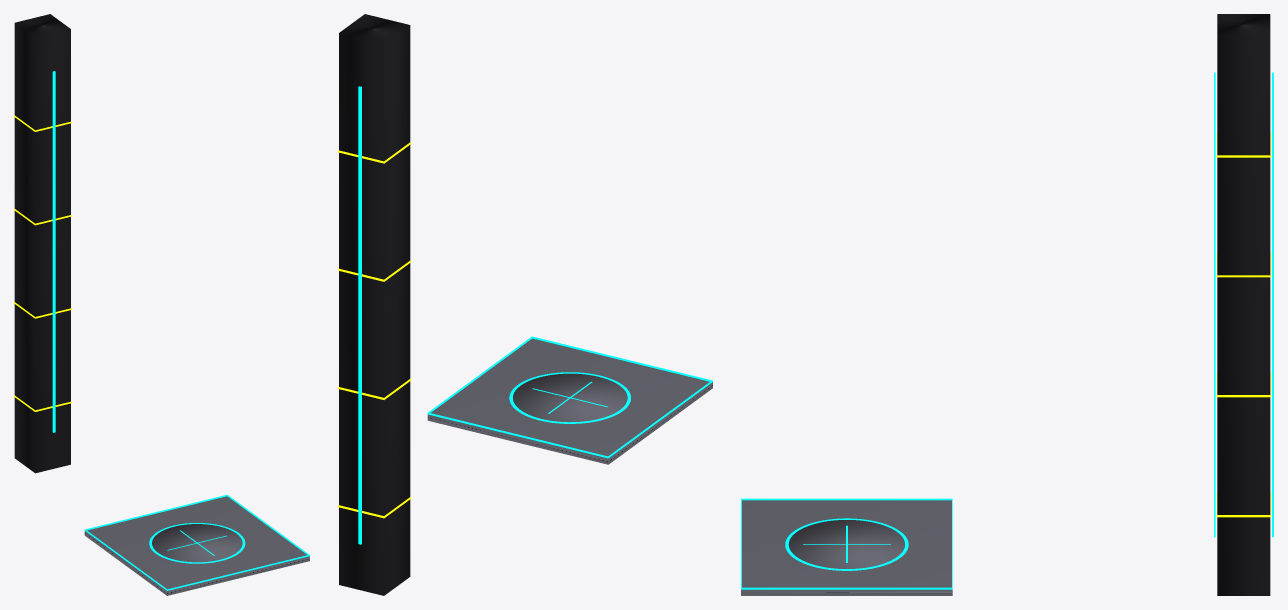
The model's file is MonolithScene.glb.
3 renders of one model, left to right at view 1: azimuth 30°, elevation 25°; view 2: azimuth 150°, elevation 25°; view 3: azimuth 270°, elevation 25°, orthographic. The views are drawn at different scales.
Visible parts, largest first — view 1: Monolith, LandingPad, PadCenterMetal, Cube.006, PadGlowRing; view 2: Monolith, LandingPad, PadCenterMetal, Cube.007, PadGlowRing; view 3: Monolith, LandingPad, PadCenterMetal, Cube.006, Cube.007, PadGlowRing.
Part boxes in pixels (x1,y1,x2,y2): Monolith: (14,14,70,473); LandingPad: (84,496,309,595); PadCenterMetal: (152,524,242,562); Cube.006: (52,71,55,432); PadGlowRing: (149,523,245,563); Monolith: (339,14,410,595); LandingPad: (427,338,712,464); PadCenterMetal: (513,373,627,422); Cube.007: (358,86,361,544); PadGlowRing: (509,372,630,423); Monolith: (1217,14,1270,595); LandingPad: (741,500,952,595); PadCenterMetal: (788,520,904,568); Cube.006: (1214,72,1215,537); Cube.007: (1272,72,1273,537); PadGlowRing: (785,518,908,570).
Size of the model in its own units: 24 by 70 by 60.4.
